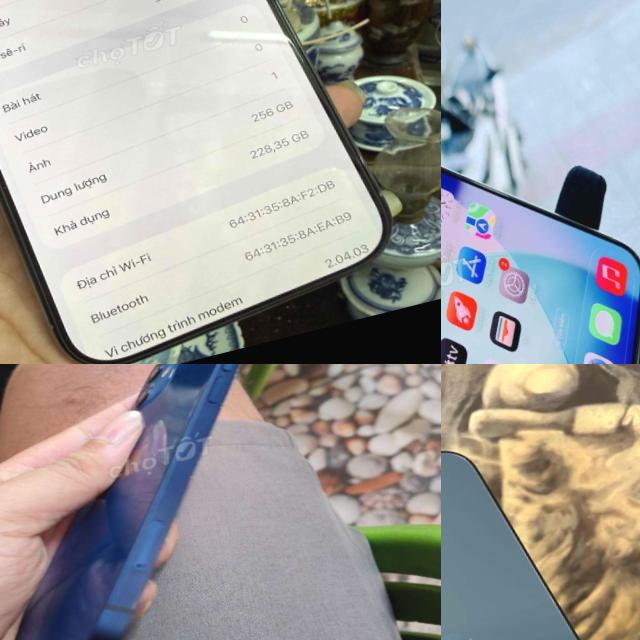gen_12_13: (0, 364, 345, 640), (441, 418, 640, 640)
gen_15: (441, 28, 640, 364)
gen_17: (0, 0, 417, 364)
